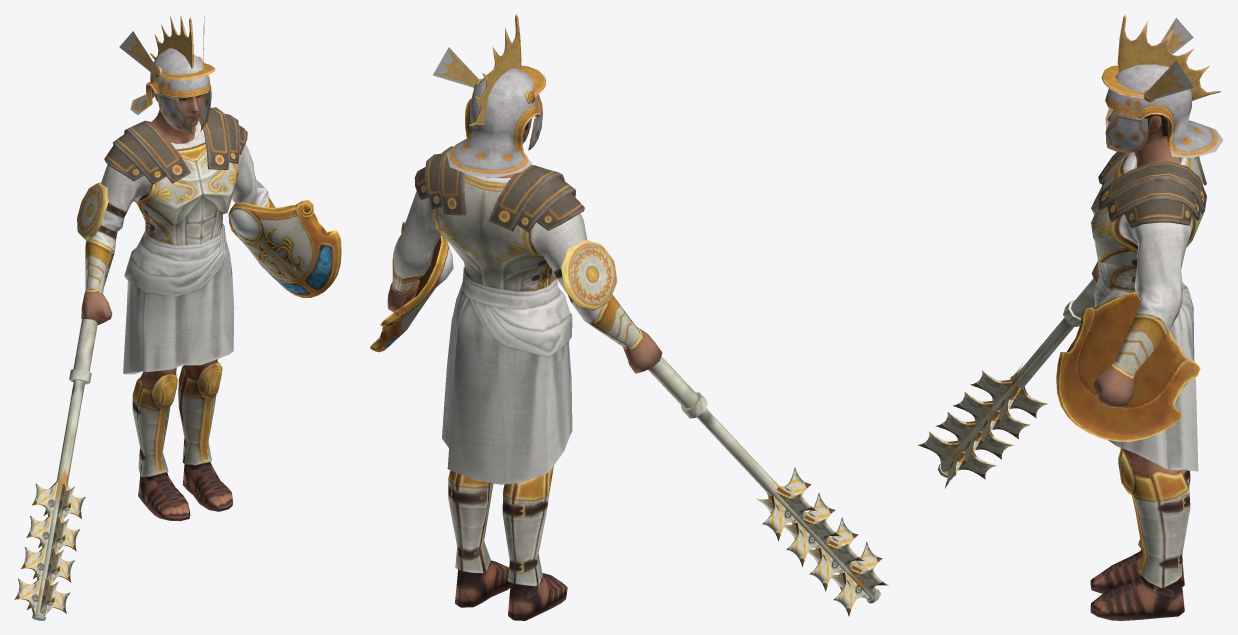
The model's file is 87-katapelteshero.glb.
The picture shows the model from 3 angles, left to right: view 1: azimuth 30°, elevation 25°; view 2: azimuth 150°, elevation 25°; view 3: azimuth 270°, elevation 25°; orthographic projection. The views are drawn at different scales.
Bounding box in the file's own units: 1.96 × 2.52 × 1.18.
4 materials, 4 textured.
